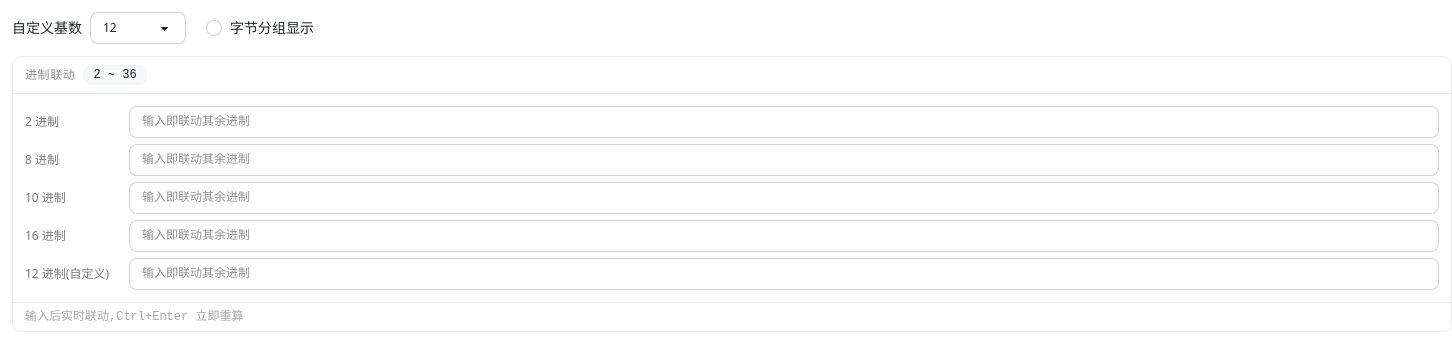
Radix 多进制同显(FE6) › 自定义进制实时联动(32 进制)
Select "32" in the dropdown named "自定义进制基数". click: (138, 28)
box: [90,12,186,44]
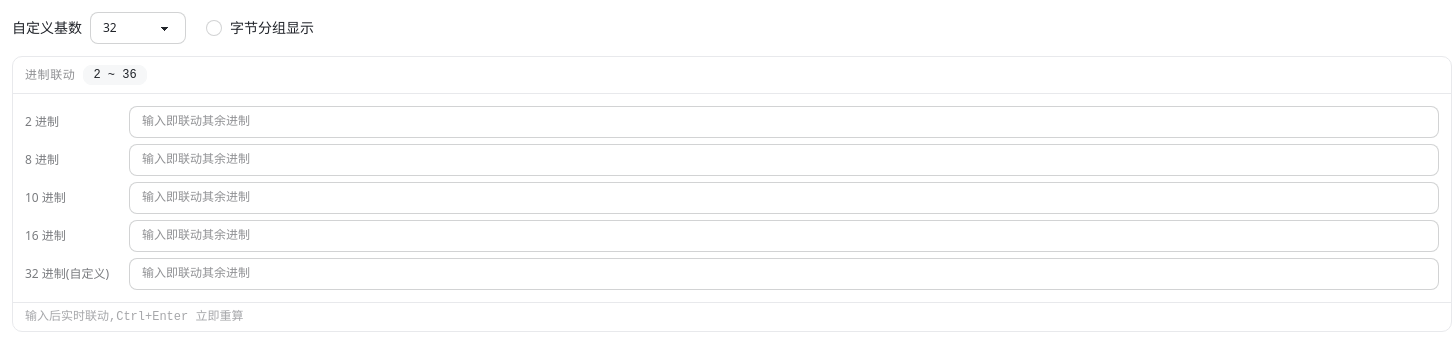
Type "1023" into the field named "10 进制". click: (784, 198)
box: [129,182,1439,214]
Wait 150 ms
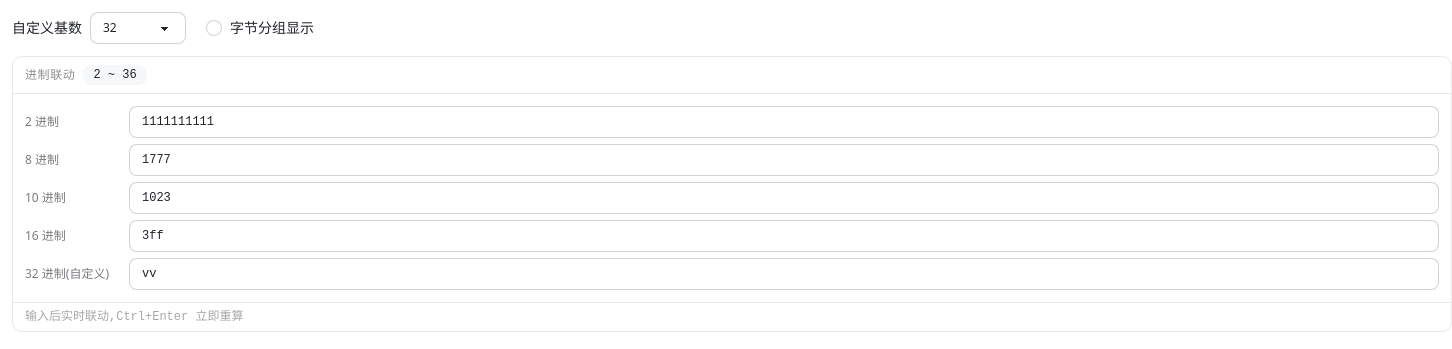
Result: the field named "自定义进制" holds "vv" at [129,258,1439,290]
